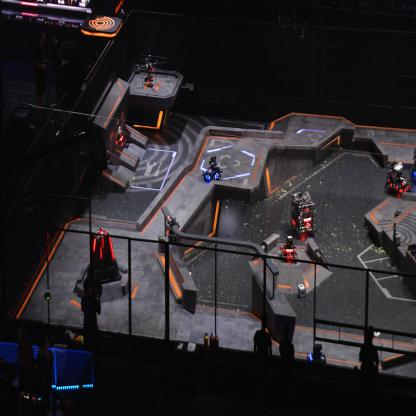car: (290, 189, 318, 242), (383, 158, 412, 198), (306, 342, 327, 372), (202, 156, 222, 183), (280, 234, 298, 263), (108, 124, 126, 151), (410, 145, 415, 190)
